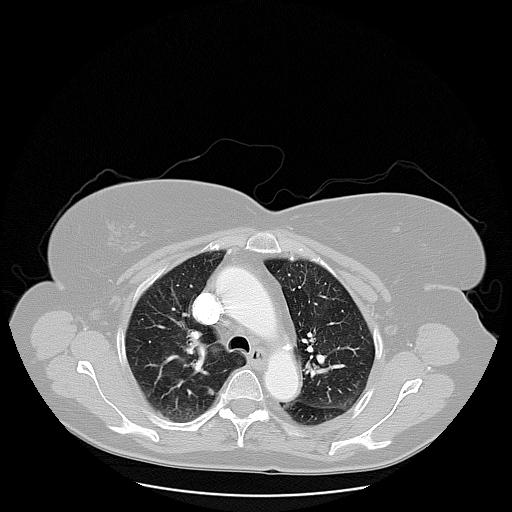nodule: (205, 386, 217, 398)
